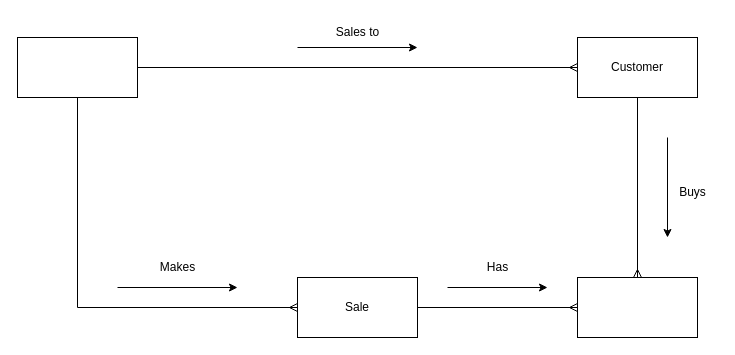
The diagram is 735 pixels wide and 355 high, and some of its shapes have lost their labels. Here are the shapes that lost their labels. From the top down, the centre of each, then its label:
(77,67): Sales person
(637,307): Product
